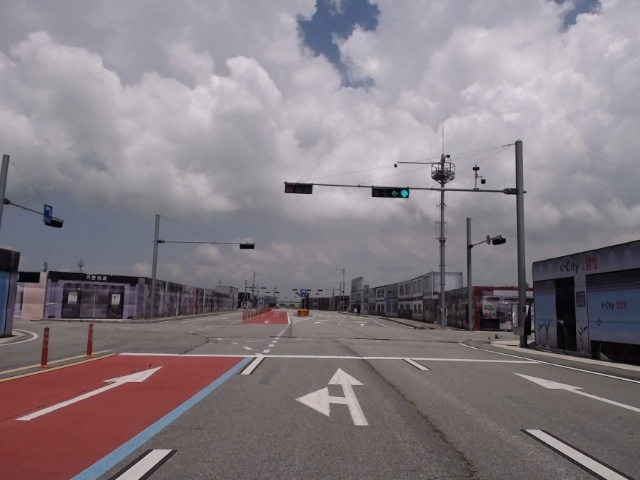all_green_4: (372, 186, 409, 200)
